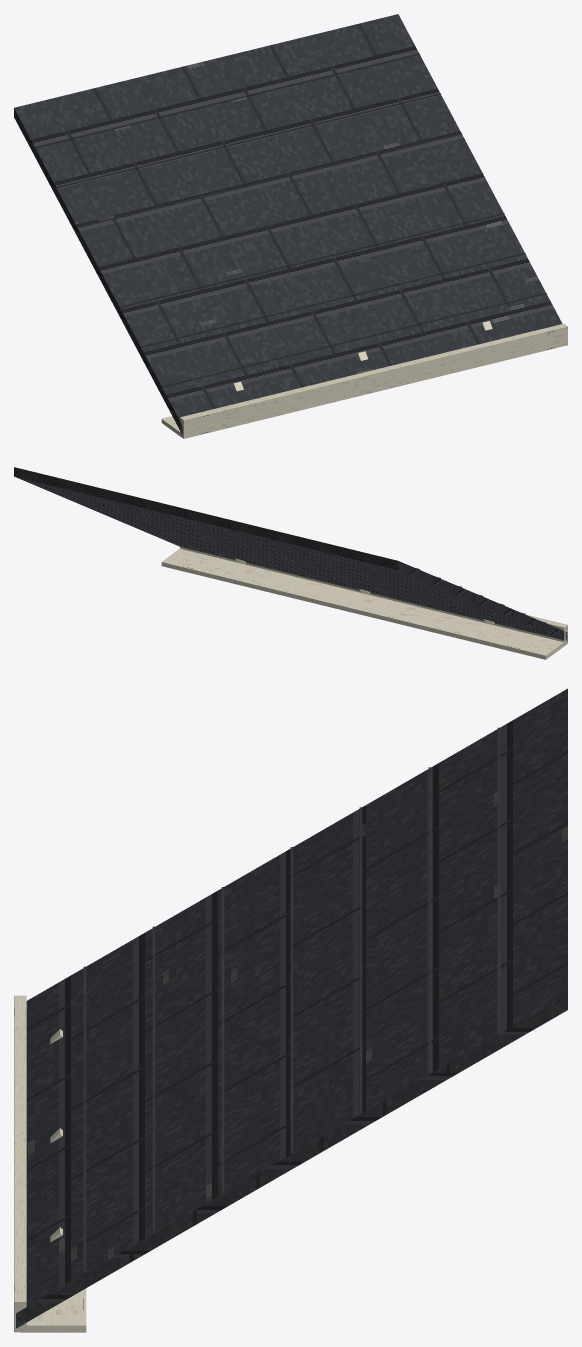
File: house_04_roof_slope.glb
3 views of the same model, one above another, from view 1: azimuth 30°, elevation 25°; view 2: azimuth 150°, elevation 25°; view 3: azimuth 270°, elevation 25° (orthographic). The views are drawn at different scales.
Parts seen in each view (by area): view 1: house_04_roof_slope; view 2: house_04_roof_slope; view 3: house_04_roof_slope.
Boxes of the visible parts, <box> form: house_04_roof_slope: <box>14,14,567,438</box>; house_04_roof_slope: <box>14,467,567,659</box>; house_04_roof_slope: <box>14,688,567,1332</box>.
Size of the model in its own units: 3.4 by 1.75 by 2.6.
Materials: 3 (3 with a texture image).
